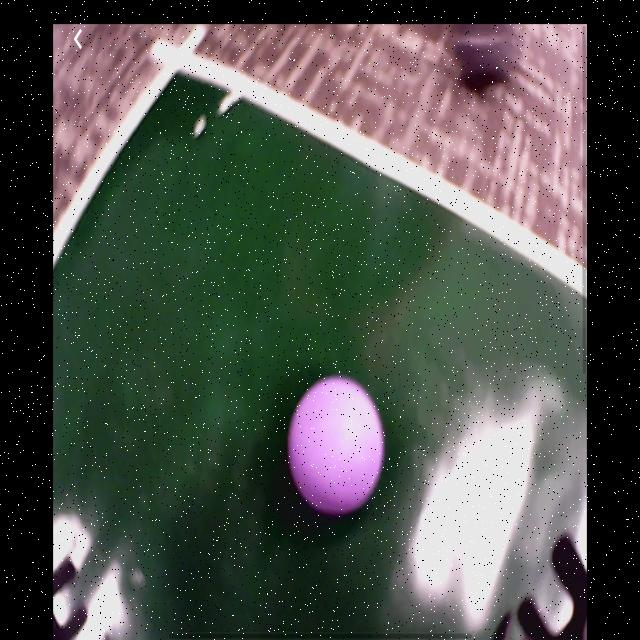ball: (287, 374, 384, 520)
